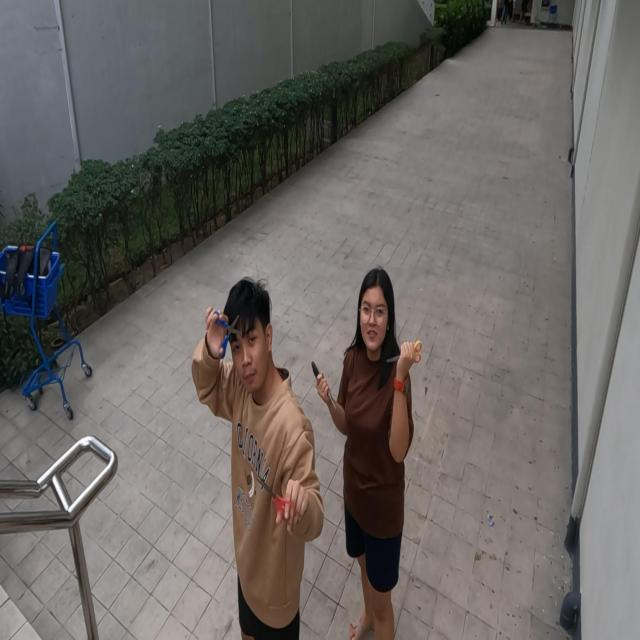scissor: (256, 474, 296, 523), (212, 310, 241, 358), (311, 362, 337, 409), (386, 340, 422, 364)
